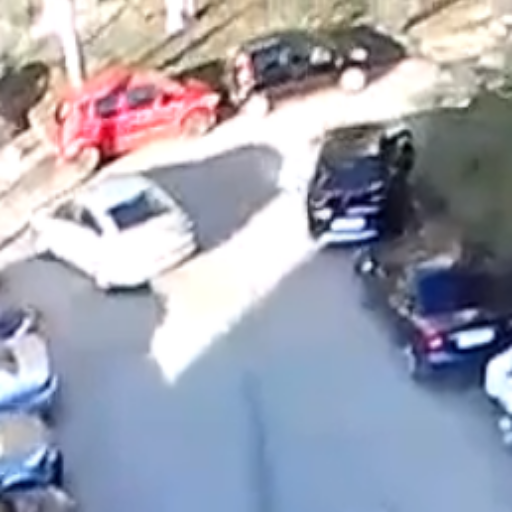Car: (354, 236, 510, 380), (26, 180, 201, 288), (302, 120, 424, 253), (52, 63, 222, 144), (226, 27, 373, 104)
